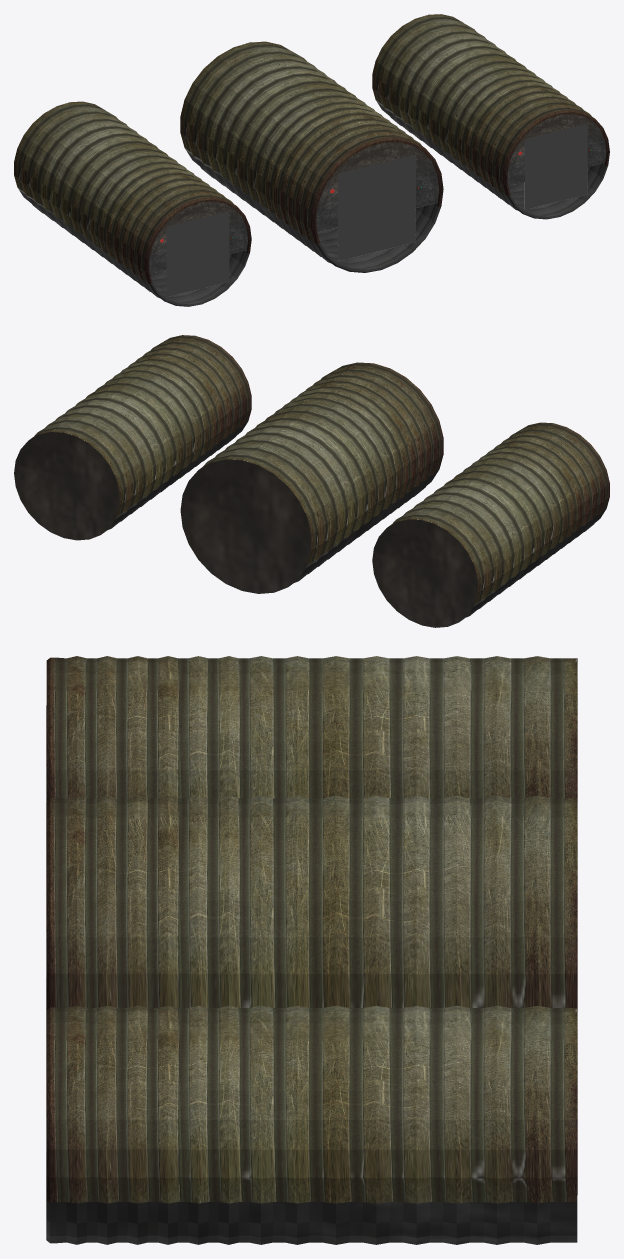
Rendered from Airport_Hangars.dae.
The picture shows the model from 3 angles, top to bottom: view 1: azimuth 30°, elevation 25°; view 2: azimuth 150°, elevation 25°; view 3: azimuth 270°, elevation 25°; orthographic projection. The views are drawn at different scales.
Parts seen in each view (by area): view 1: Cylinder3-0, Cylinder3_copy5-0, Cylinder3_copy7-0; view 2: Cylinder3-0, Cylinder3_copy5-0, Cylinder3_copy7-0; view 3: Cylinder3_copy5-0, Cylinder3-0, Cylinder3_copy7-0.
Boxes of the visible parts, x1,y1,x2,y2 form: Cylinder3-0: [180, 41, 443, 272]; Cylinder3_copy5-0: [372, 14, 609, 219]; Cylinder3_copy7-0: [14, 101, 251, 306]; Cylinder3-0: [180, 362, 443, 593]; Cylinder3_copy5-0: [14, 335, 251, 540]; Cylinder3_copy7-0: [372, 422, 609, 627]; Cylinder3_copy5-0: [46, 1005, 577, 1244]; Cylinder3-0: [46, 795, 577, 1054]; Cylinder3_copy7-0: [46, 656, 577, 856].
Size of the model in its own units: 29.78 by 8.15 by 14.7.
